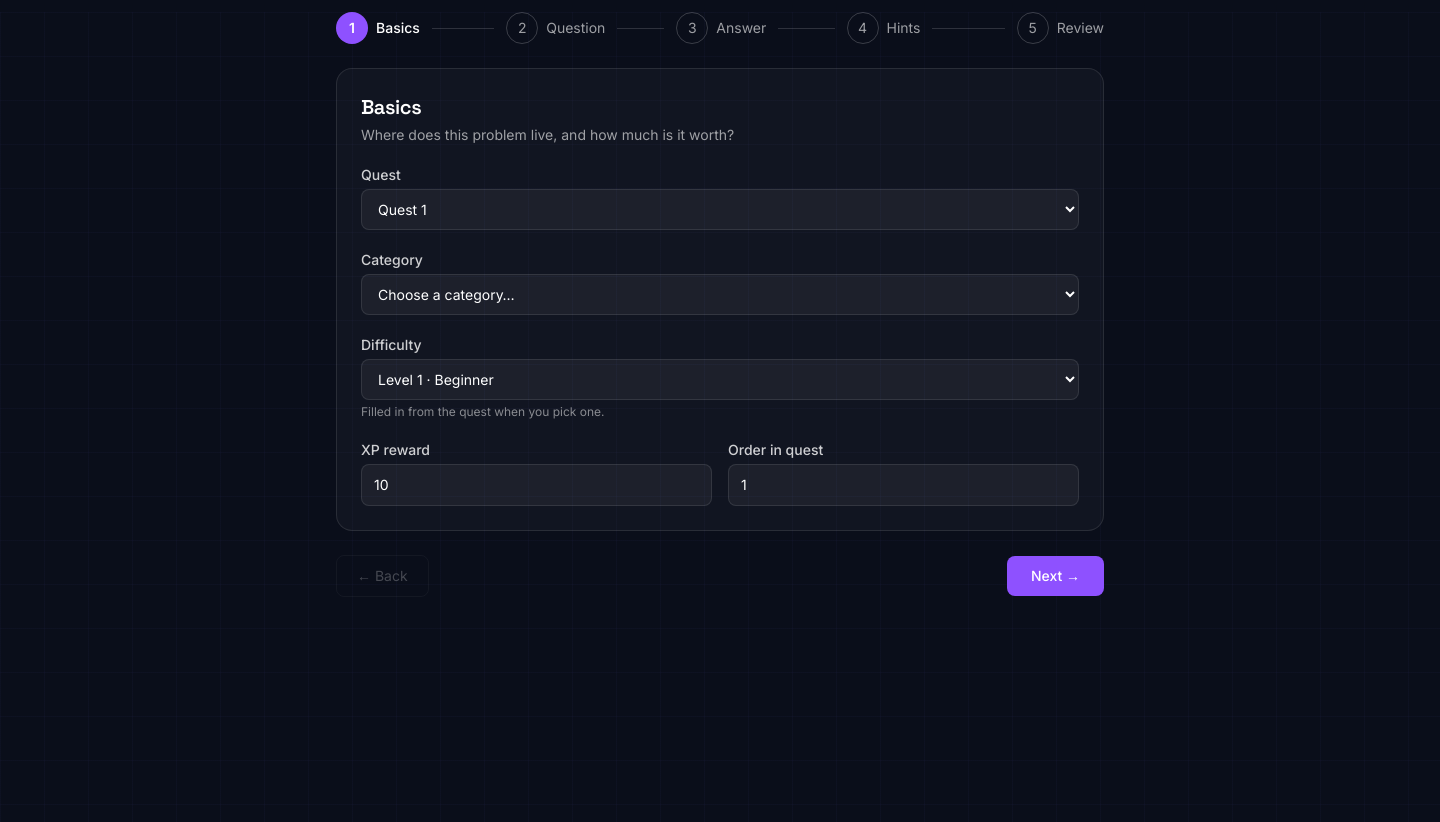
Test: ProblemForm embed link › blocks Next on the Question step for https://evil.com/calculator/abc
The width and height of the screenshot is (1440, 822).
Click the button "Next →". click: (1055, 576)
box: [1007,556,1104,596]
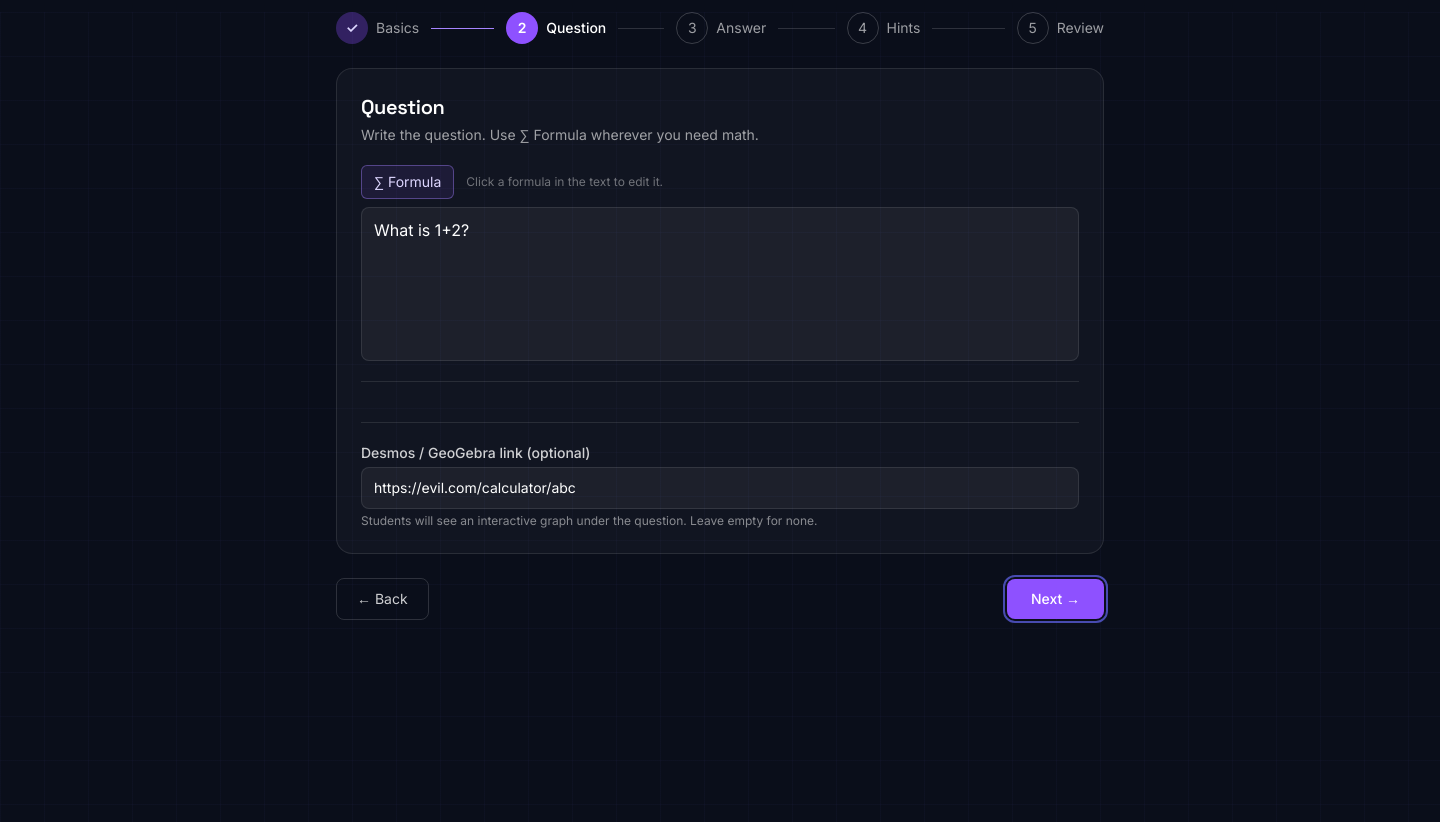
Click the button "Next →". click: (1055, 599)
box: [1007,579,1104,619]
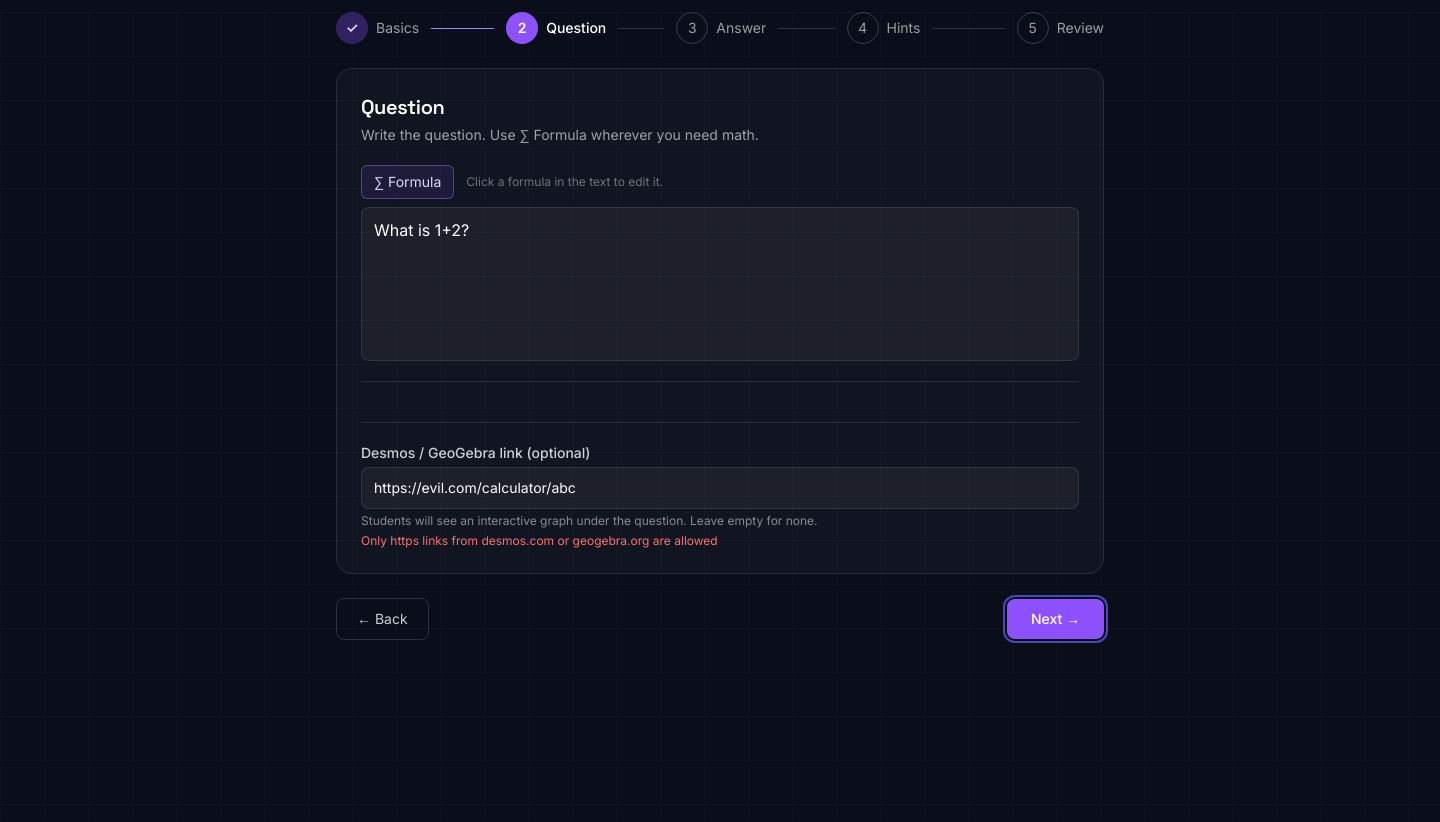
Now the text "Only https links from desmos.com or geogebra.org are allowed" is shown, box [361,533,718,548]
